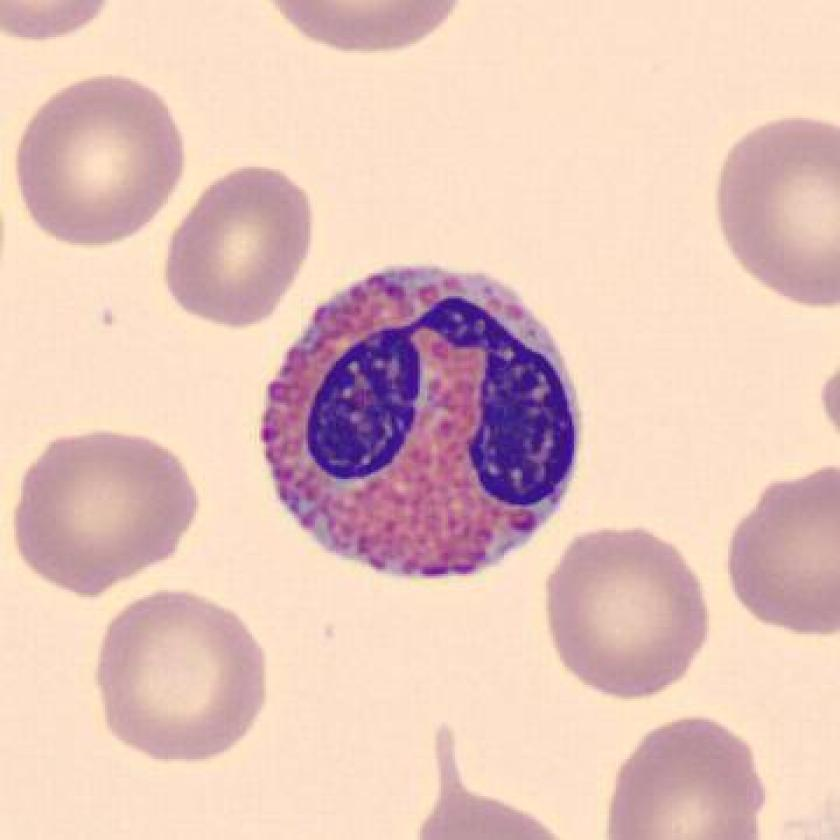eosinophil: (246, 244, 596, 598)
